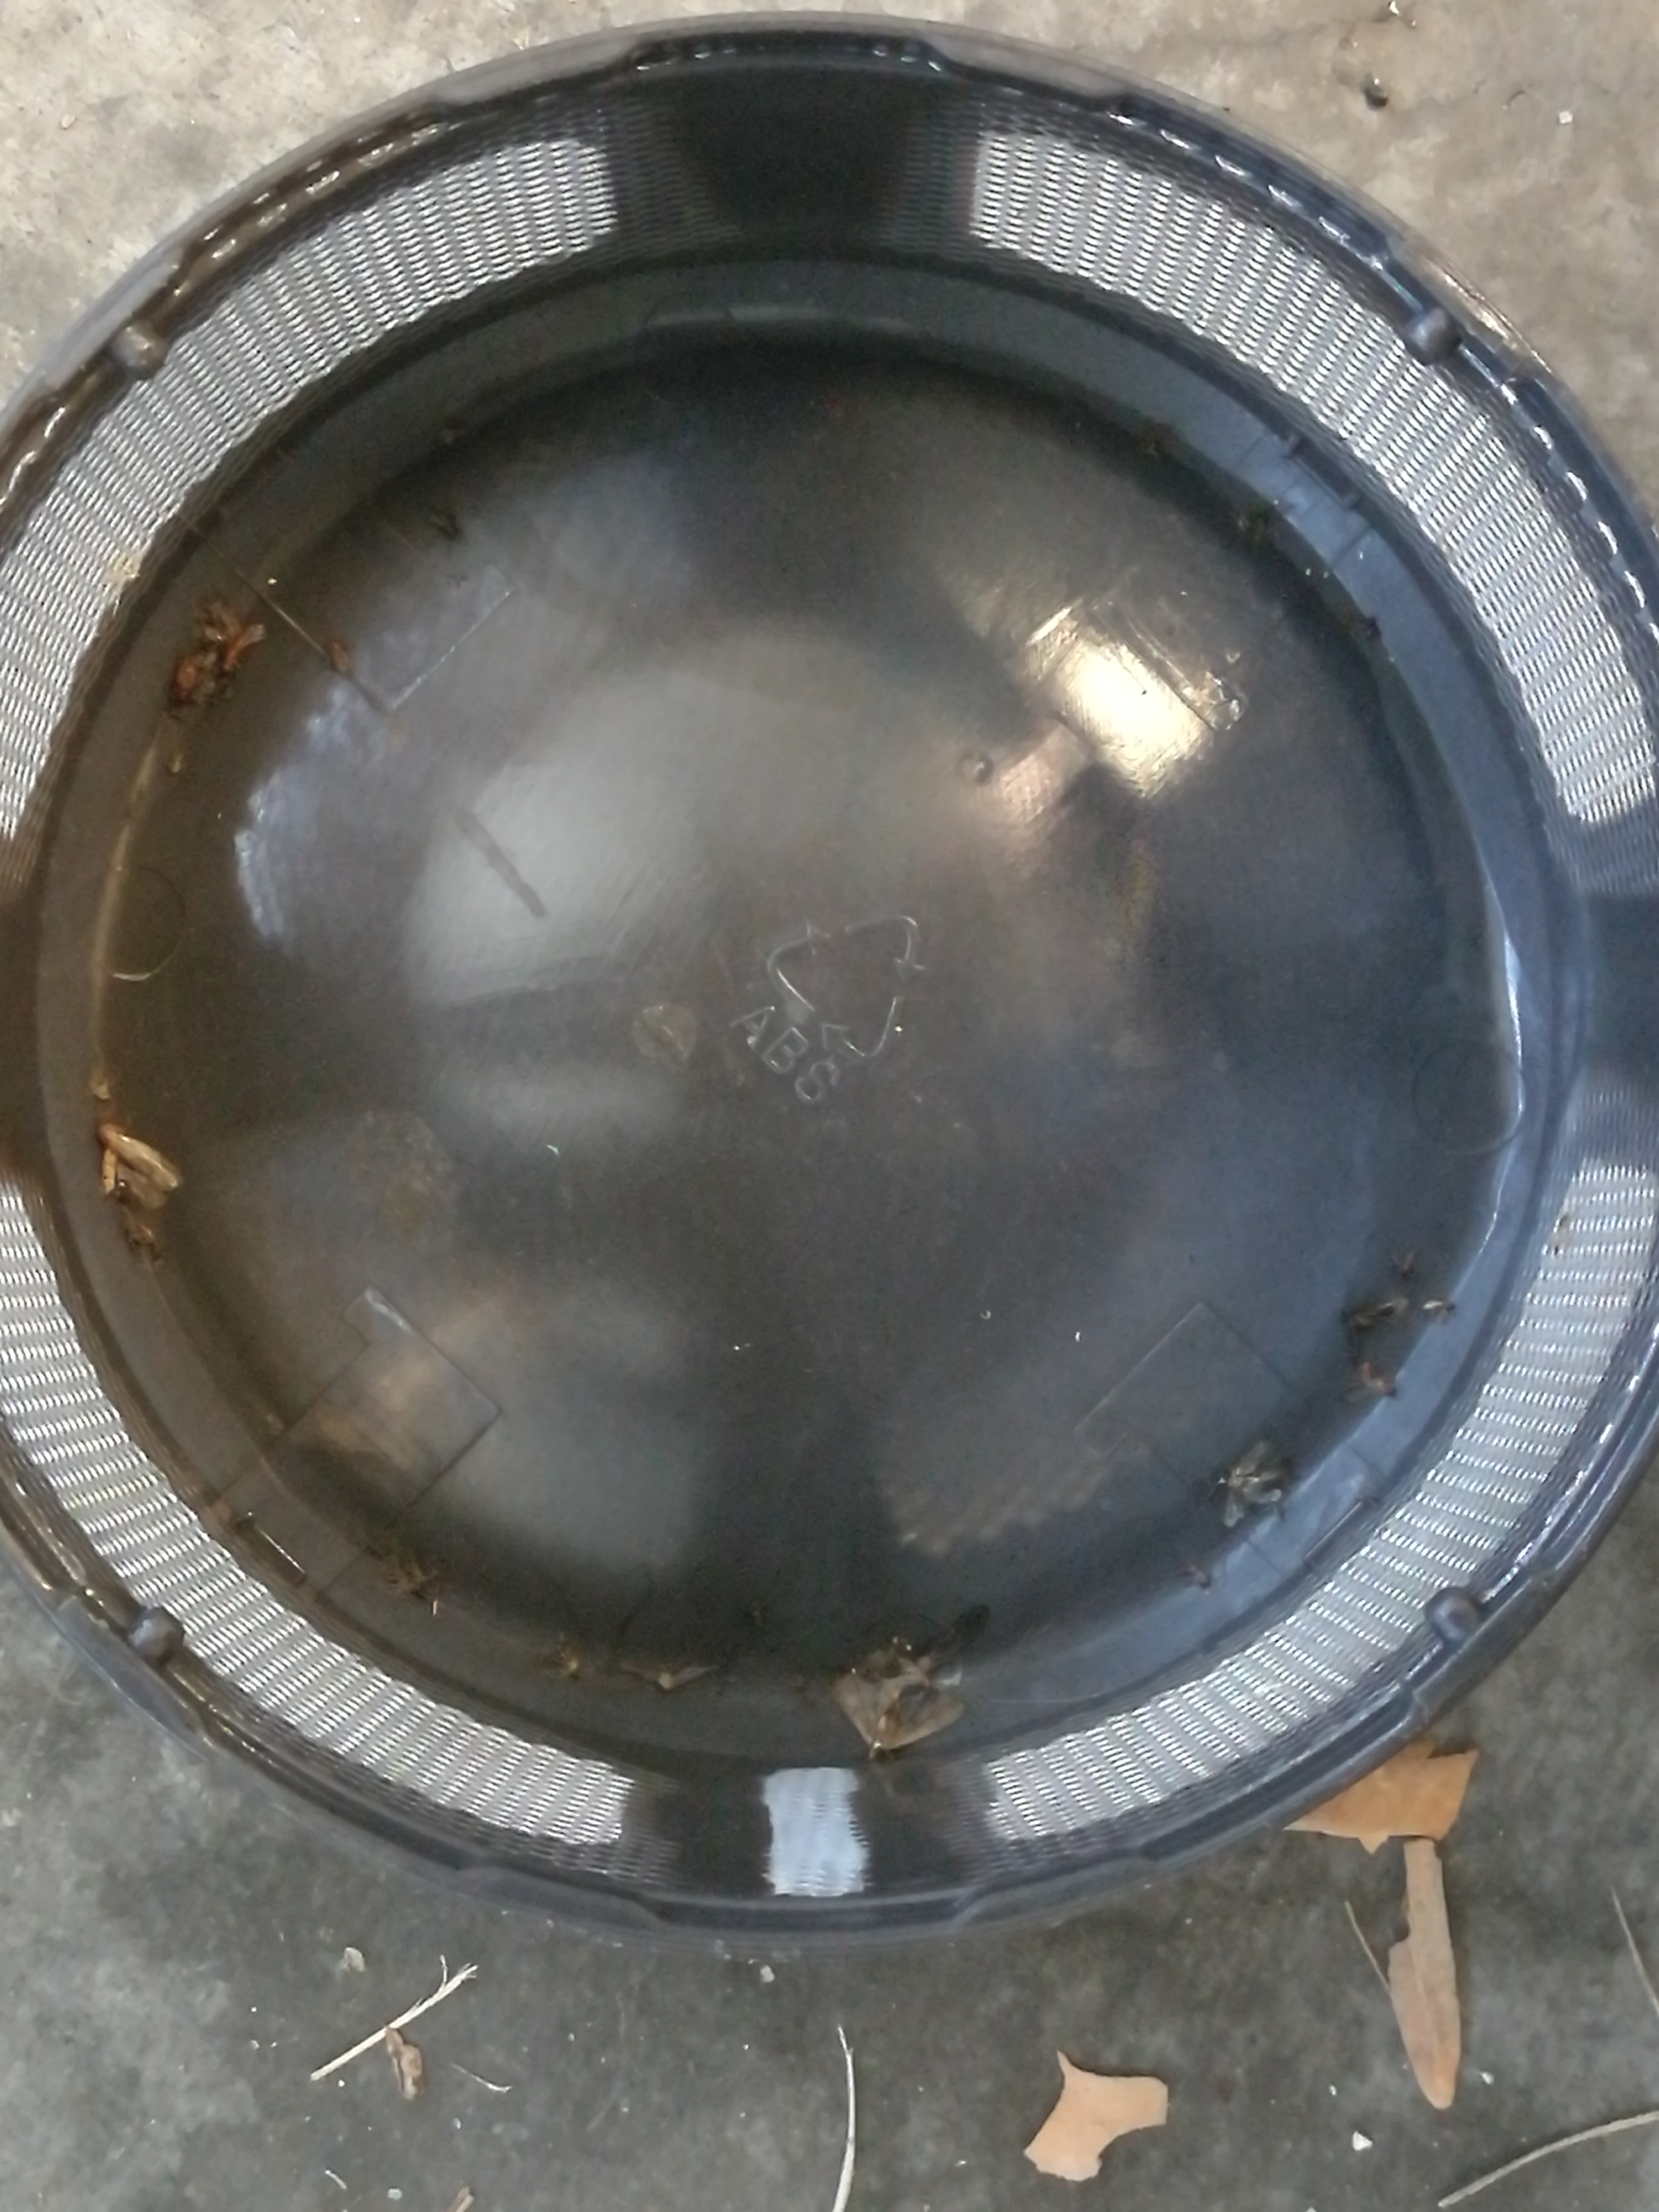moth: (833, 1676, 965, 1749), (101, 1123, 183, 1207), (1223, 1439, 1283, 1526)
